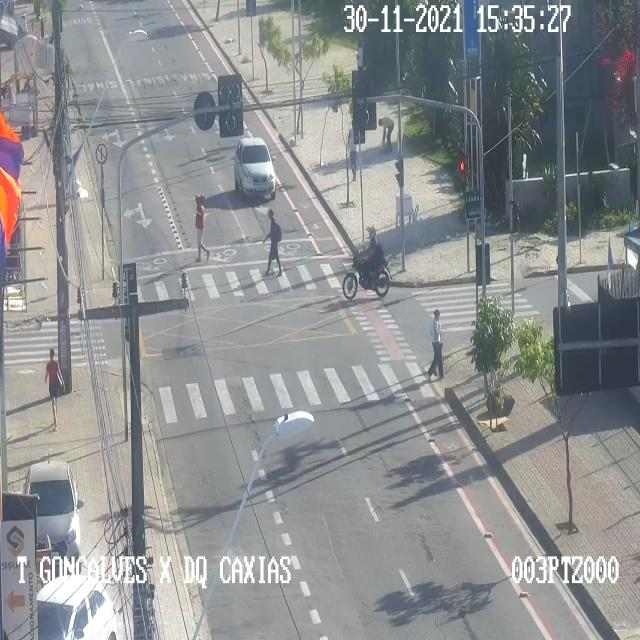Car: (24, 463, 84, 564), (36, 576, 118, 639), (229, 124, 284, 208)
Motorcycle: (343, 224, 393, 300)
